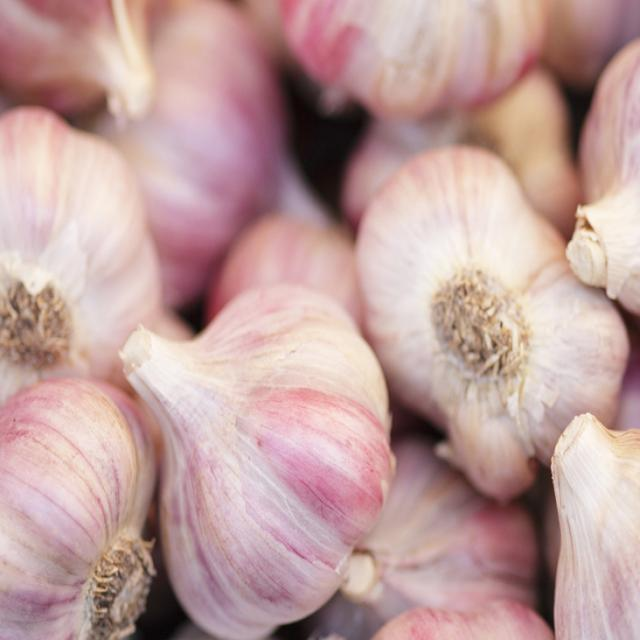Garlic: (312, 142, 631, 480), (124, 271, 406, 640), (0, 79, 174, 409), (0, 369, 175, 640)
